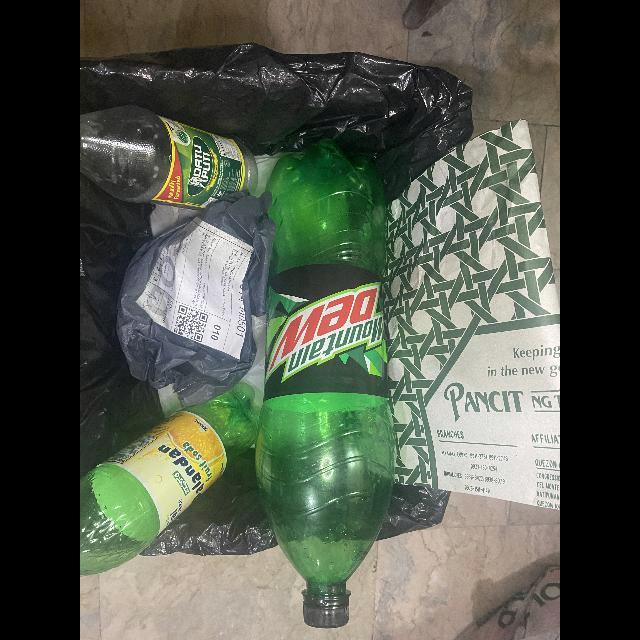paper: (387, 122, 560, 512)
plastic_bag: (116, 192, 276, 408)
plastic_bottle: (254, 144, 396, 632), (80, 382, 258, 577), (80, 105, 258, 211)
